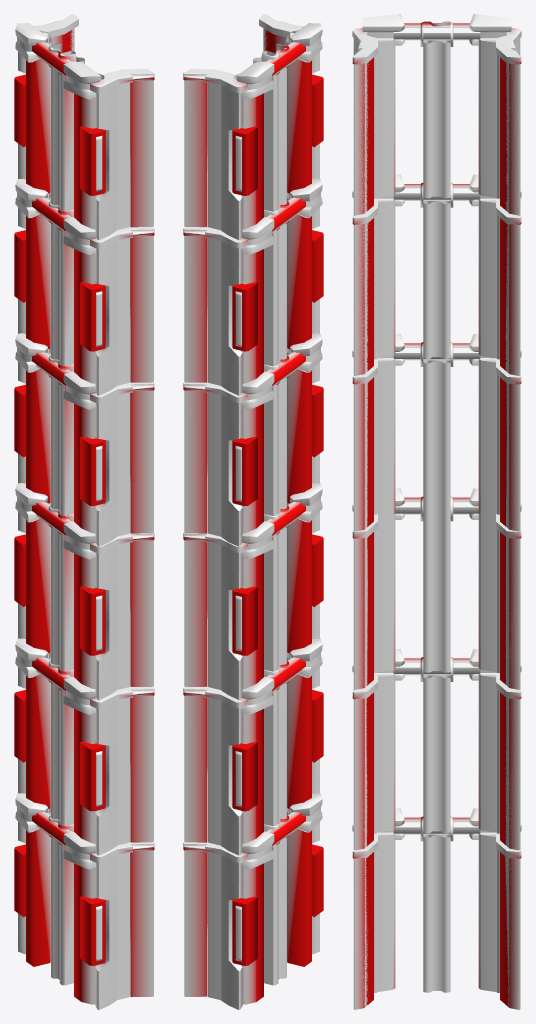
Rendered from MIDMK5.FBX.
3 views of the same model, side by side, from view 1: azimuth 30°, elevation 25°; view 2: azimuth 150°, elevation 25°; view 3: azimuth 270°, elevation 25° (orthographic). The views are drawn at different scales.
Parts seen in each view (by area): view 1: ConveyorLiftMid_Mk4_static_LOD0.001; view 2: ConveyorLiftMid_Mk4_static_LOD0.001; view 3: ConveyorLiftMid_Mk4_static_LOD0.001.
Part boxes in pixels (box(x1,y1,x2,y2)): ConveyorLiftMid_Mk4_static_LOD0.001: box(14, 14, 154, 1009); ConveyorLiftMid_Mk4_static_LOD0.001: box(183, 14, 323, 1009); ConveyorLiftMid_Mk4_static_LOD0.001: box(352, 14, 521, 1009).
Bounding box in the file's own units: 95.79 × 1245 × 198.
